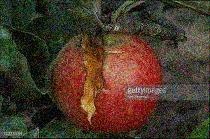rotten apple: (47, 32, 163, 133)
